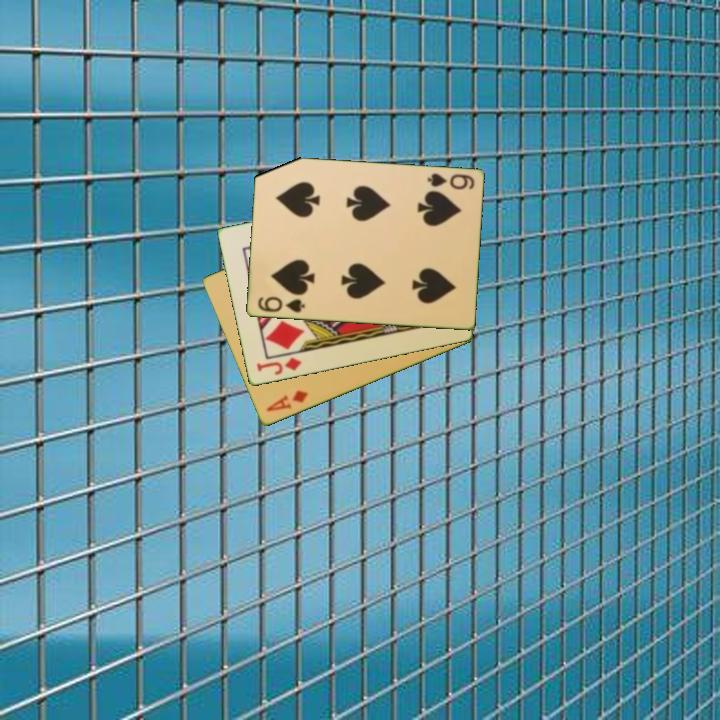6s: (424, 170, 477, 193), (254, 293, 307, 315)
Ad: (262, 387, 311, 415)
Jd: (253, 354, 305, 378)
